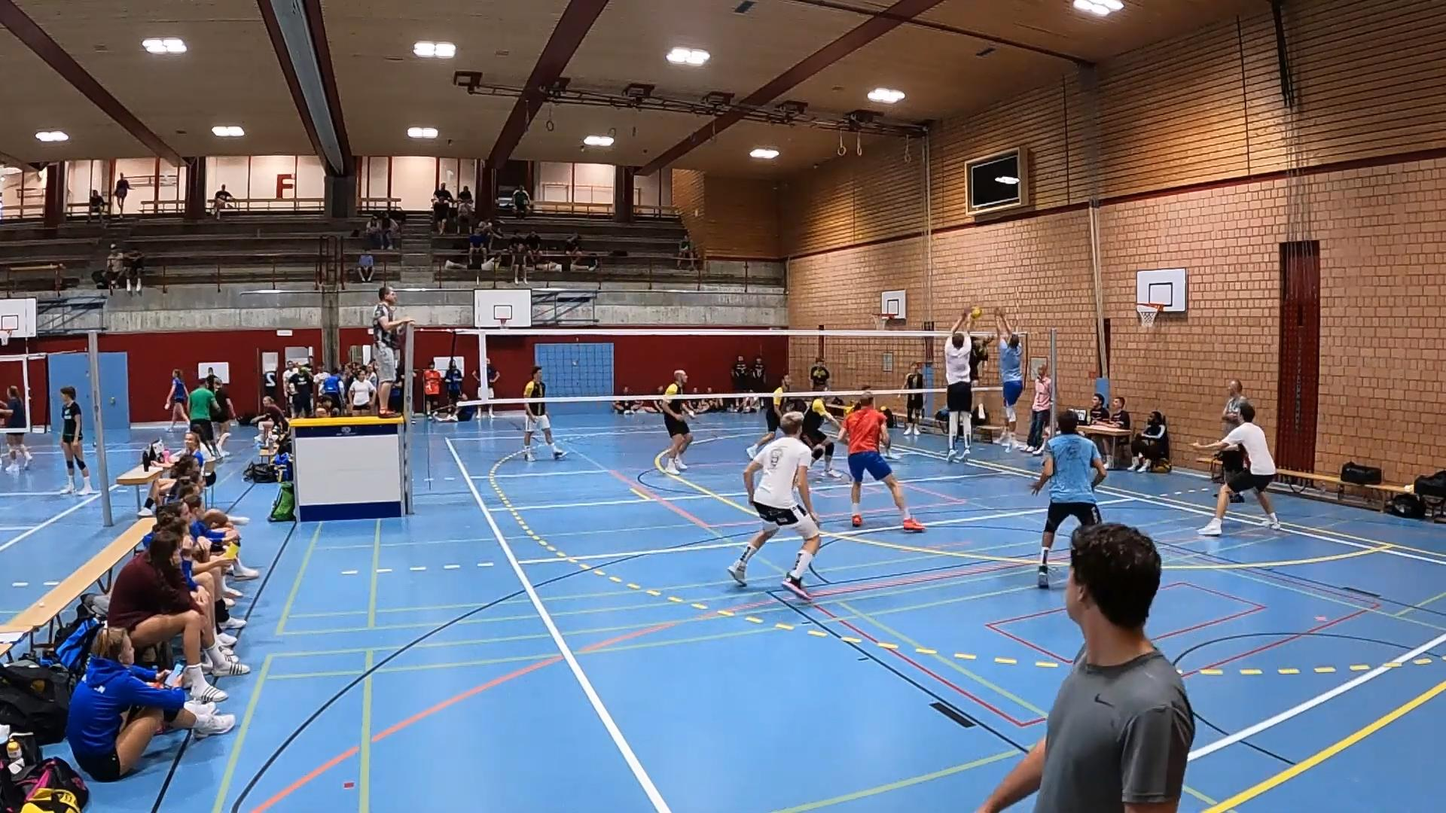Attack: (959, 299, 994, 430)
Block: (945, 313, 983, 470), (997, 312, 1027, 459)
Player: (728, 412, 820, 599), (1031, 410, 1106, 587), (840, 391, 924, 531), (1192, 402, 1280, 535), (523, 366, 565, 461), (659, 370, 695, 474), (747, 373, 791, 458), (802, 397, 841, 478), (880, 433, 899, 461)
ball: (965, 299, 985, 323)
